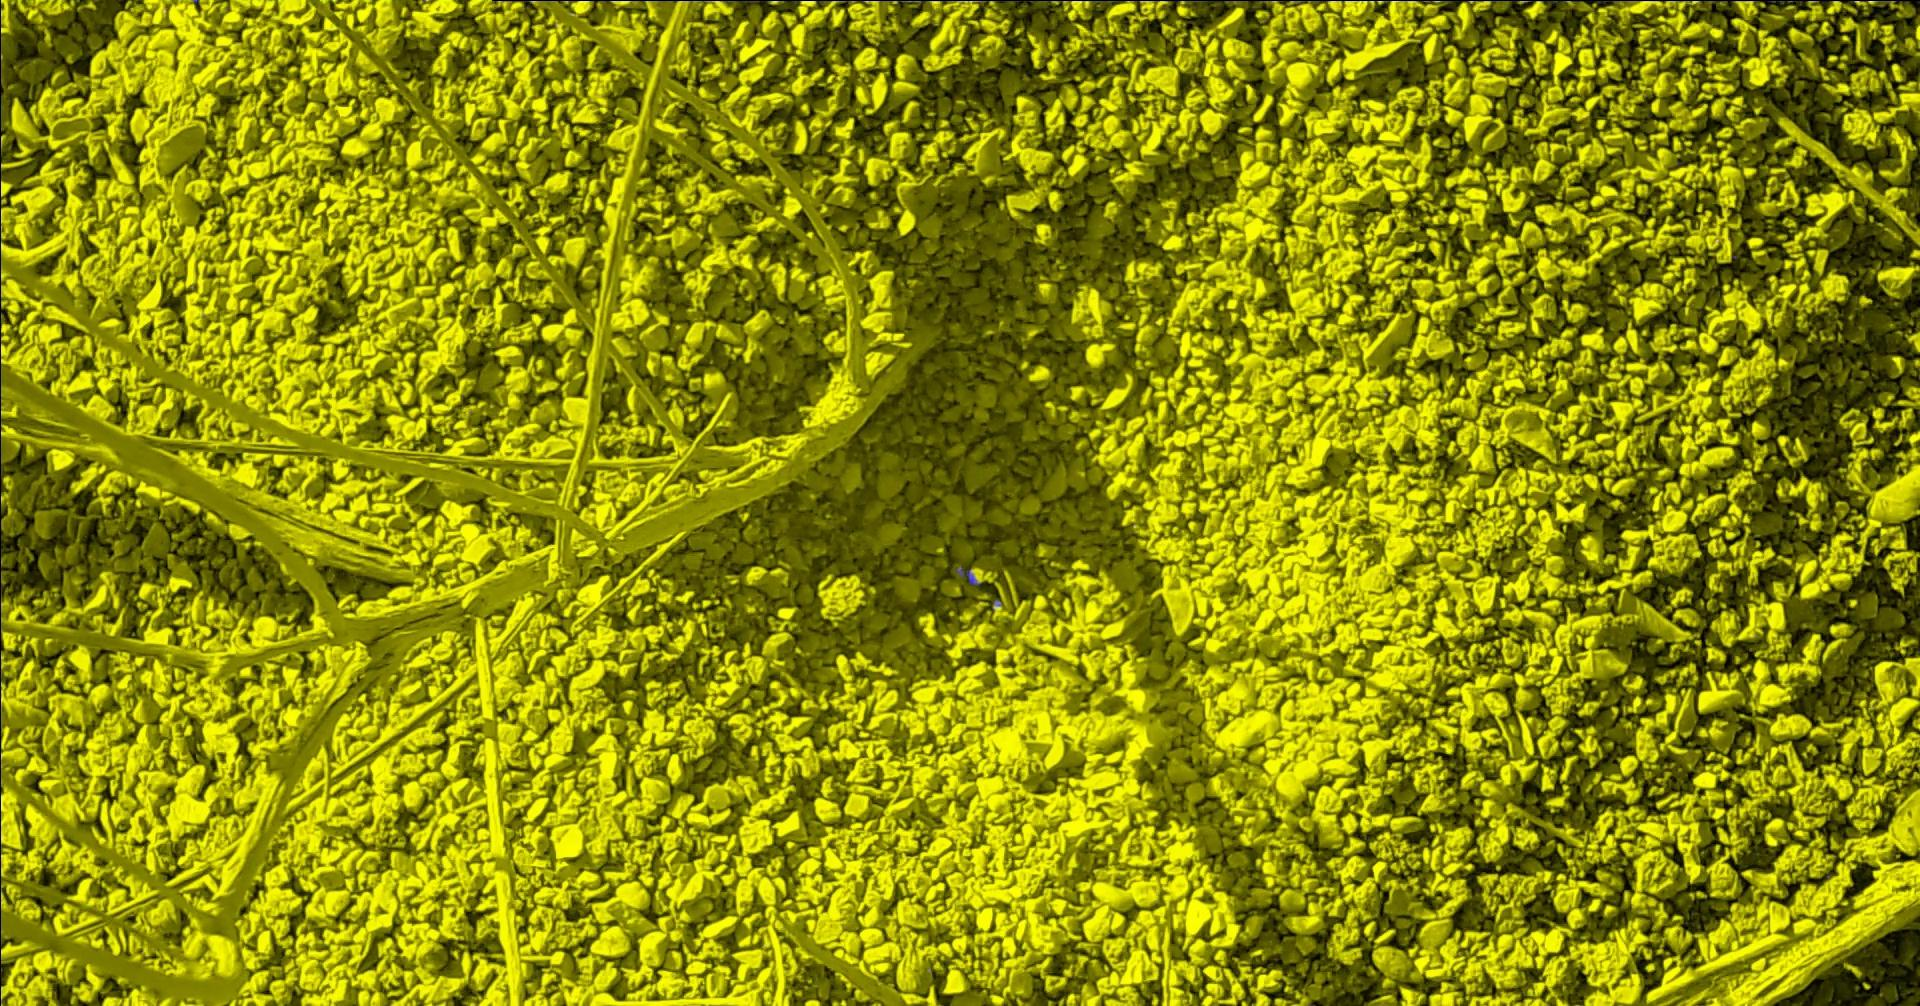ant: (956, 567, 982, 586)
